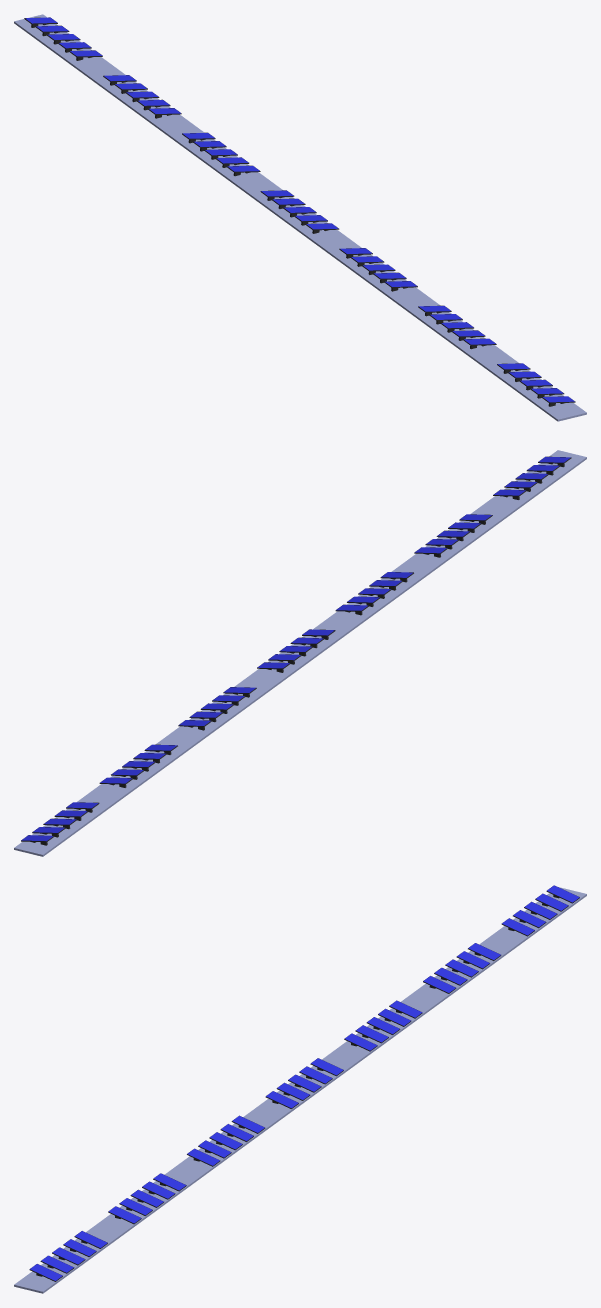
Rendered from solar.fbx.
The picture shows the model from 3 angles, top to bottom: view 1: azimuth 30°, elevation 25°; view 2: azimuth 150°, elevation 25°; view 3: azimuth 330°, elevation 25°; orthographic projection.
Parts seen in each view (by area): view 1: solar; view 2: solar; view 3: solar.
Boxes of the visible parts, x1,y1,x2,y2 form: solar: (14, 14, 586, 421); solar: (14, 450, 586, 856); solar: (14, 885, 586, 1293).
Size of the model in its own units: 365 by 113 by 11580.
